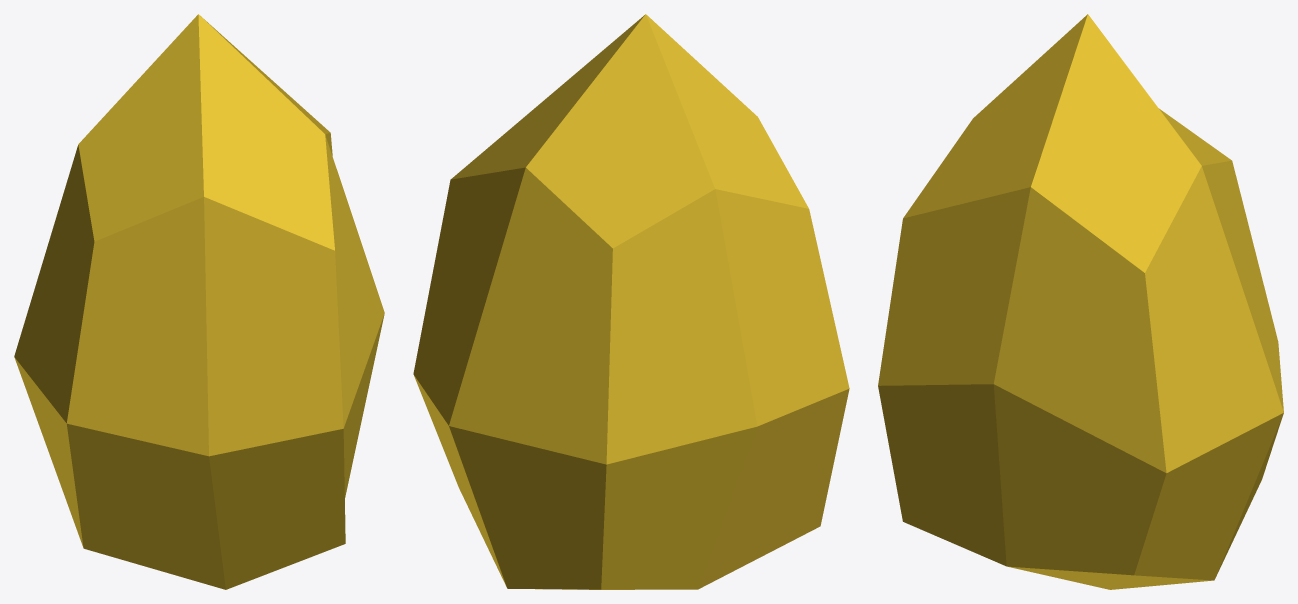
File: Seed.fbx
3 views of the same model, side by side, from view 1: azimuth 30°, elevation 25°; view 2: azimuth 150°, elevation 25°; view 3: azimuth 270°, elevation 25° (orthographic). The views are drawn at different scales.
Visible parts, largest first — view 1: Cube; view 2: Cube; view 3: Cube.
Part boxes in pixels (x1,y1,x2,y2): Cube: (14,14,384,589); Cube: (413,14,849,589); Cube: (878,14,1283,589).
Size of the model in its own units: 89.46 by 136 by 89.1.
